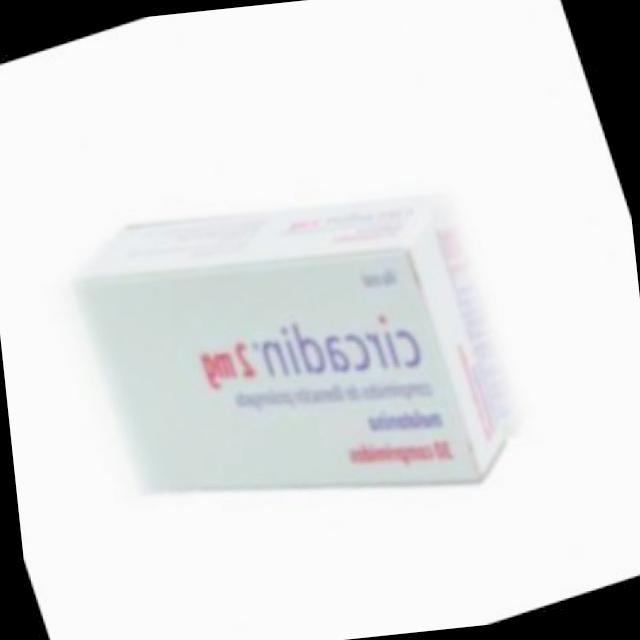box: (54, 127, 542, 585)
